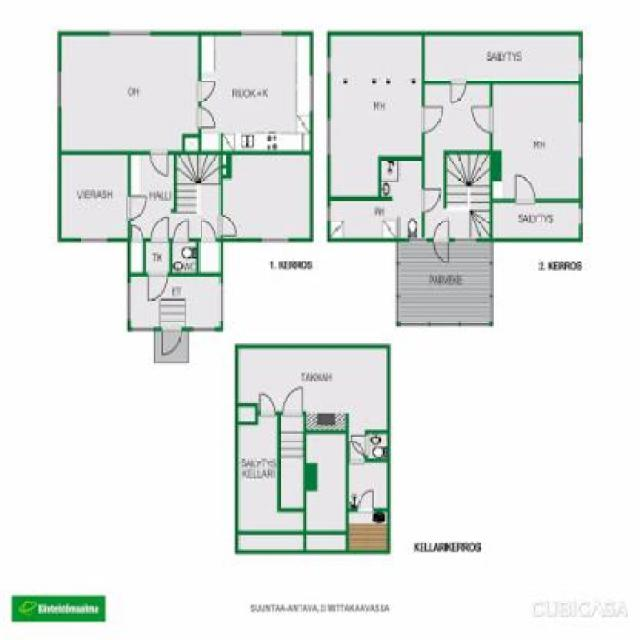door: (430, 217, 452, 266), (280, 384, 306, 418), (471, 105, 494, 137), (514, 174, 537, 206), (149, 152, 171, 183), (198, 216, 218, 250), (170, 218, 196, 244), (214, 215, 241, 240), (152, 216, 175, 244), (143, 270, 166, 298), (422, 106, 446, 132), (162, 324, 182, 354), (195, 79, 217, 106), (419, 188, 443, 210), (449, 78, 466, 108), (126, 197, 149, 218), (258, 391, 277, 415), (358, 489, 378, 511), (195, 108, 214, 129), (129, 228, 146, 243)
window: (242, 26, 283, 39), (77, 234, 109, 246), (325, 118, 332, 157), (577, 120, 585, 154), (109, 30, 151, 36), (128, 283, 135, 317), (310, 76, 316, 112), (260, 237, 294, 243), (57, 72, 63, 105), (194, 323, 218, 331), (136, 323, 156, 332), (218, 281, 222, 317), (326, 57, 332, 75), (578, 208, 584, 225), (580, 57, 585, 74), (326, 209, 332, 220)
zone: (60, 35, 198, 151), (332, 34, 422, 195), (202, 35, 310, 151), (240, 346, 386, 429), (491, 84, 577, 198), (426, 83, 486, 235), (222, 152, 309, 237), (240, 418, 305, 531), (223, 154, 308, 237), (400, 242, 491, 318), (331, 160, 422, 235), (426, 36, 580, 78), (63, 156, 129, 238), (348, 432, 388, 548), (132, 276, 220, 326), (306, 431, 345, 532), (132, 155, 178, 237), (177, 156, 217, 236), (494, 201, 578, 237), (239, 531, 303, 551), (172, 242, 197, 270), (146, 242, 168, 272), (304, 535, 344, 551), (200, 240, 218, 272)
